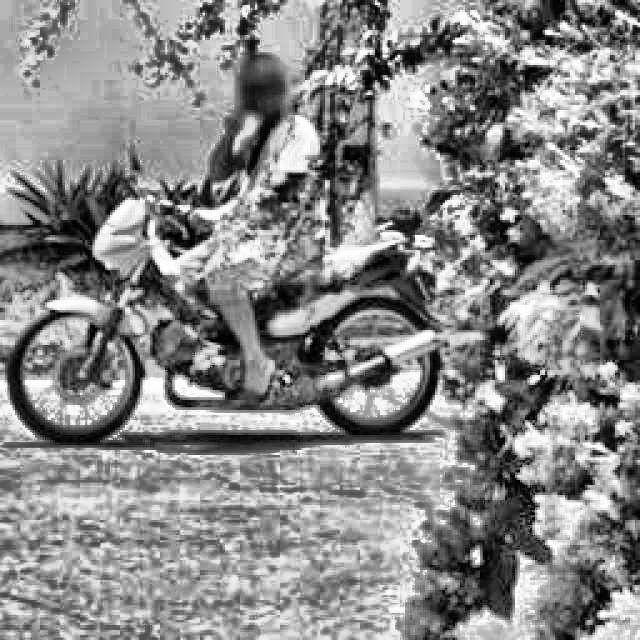motorcycle: (6, 136, 454, 448)
